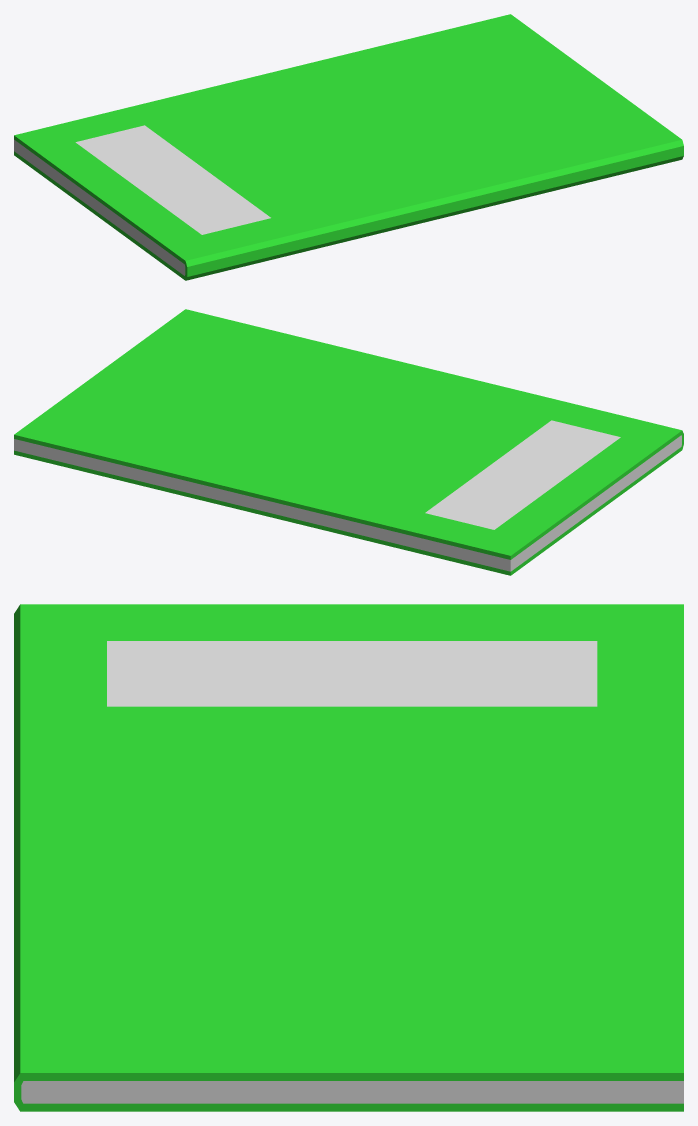
File: Quaderno.fbx
The picture shows the model from 3 angles, top to bottom: view 1: azimuth 30°, elevation 25°; view 2: azimuth 150°, elevation 25°; view 3: azimuth 270°, elevation 25°; orthographic projection. The views are drawn at different scales.
Visible parts, largest first — view 1: Quaderno; view 2: Quaderno; view 3: Quaderno.
Part boxes in pixels (x1=…): Quaderno: x1=14, y1=14, x2=683, y2=280; Quaderno: x1=14, y1=309, x2=683, y2=575; Quaderno: x1=14, y1=604, x2=683, y2=1111.
Size of the model in its own units: 0.2356 by 0.00904 by 0.1423.
